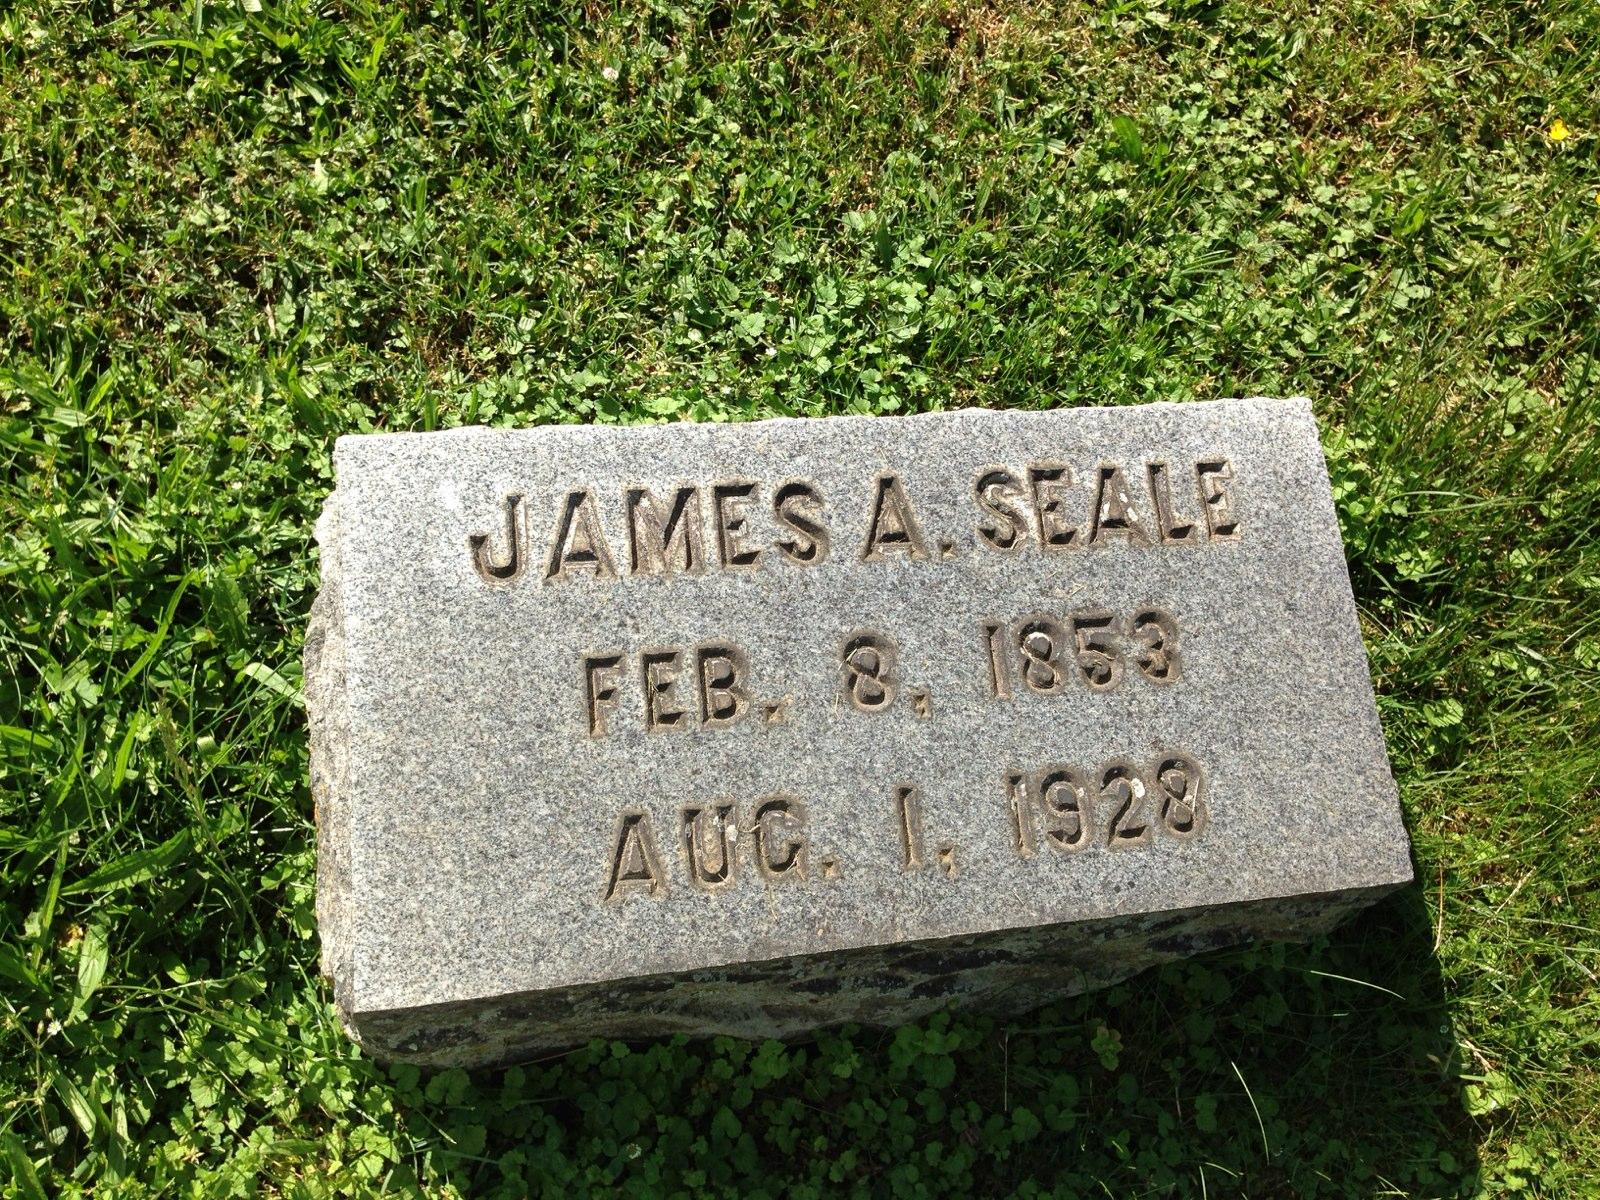flat: (195, 400, 1482, 1032)
